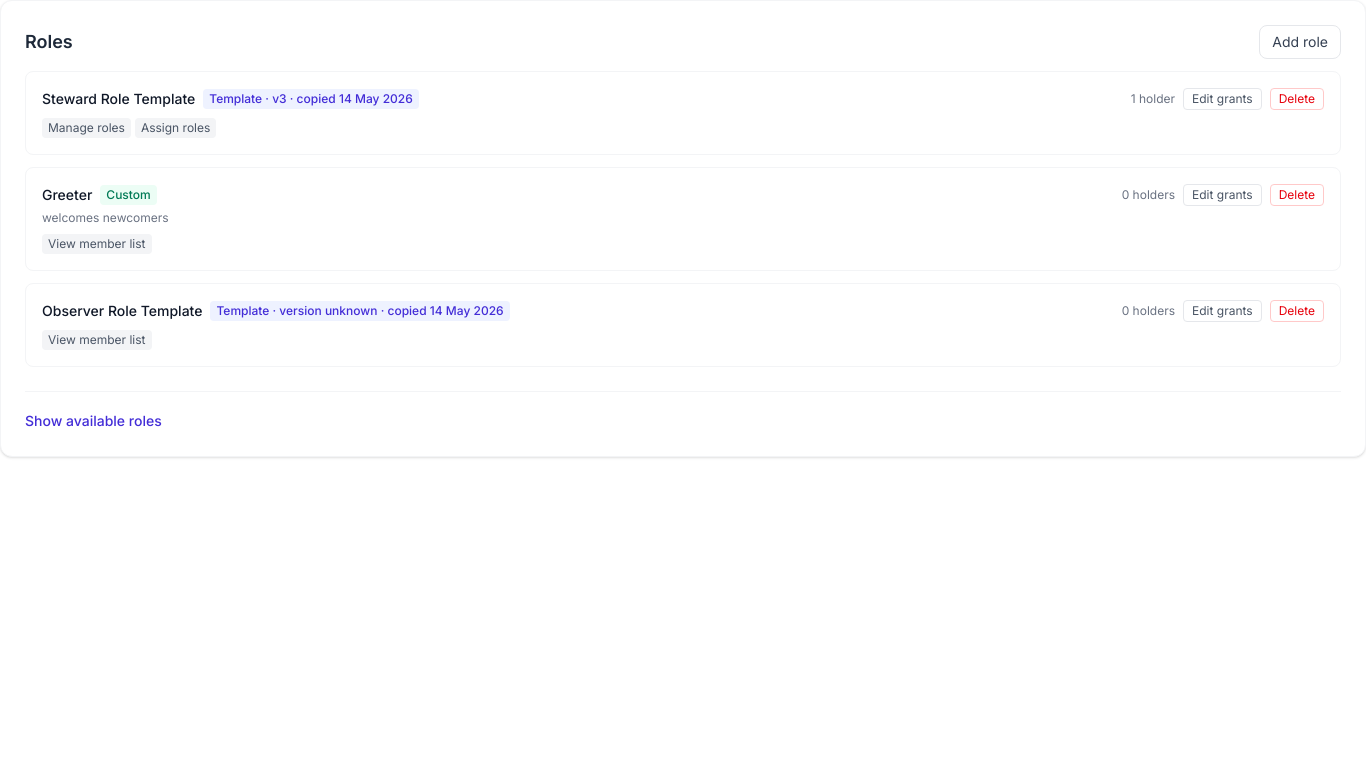
FEAT-H014 — RolesPanel (STORY-1/2) › W-9: a held role cannot be confirmed for removal — the obstacle disables the act
This screenshot has width=1366, height=768.
Click the button with test id "delete-role-button" in the row of "Template · v3 · copied 14 May 2026" at (1297,99), box x1=1270 y1=88 x2=1324 y2=110
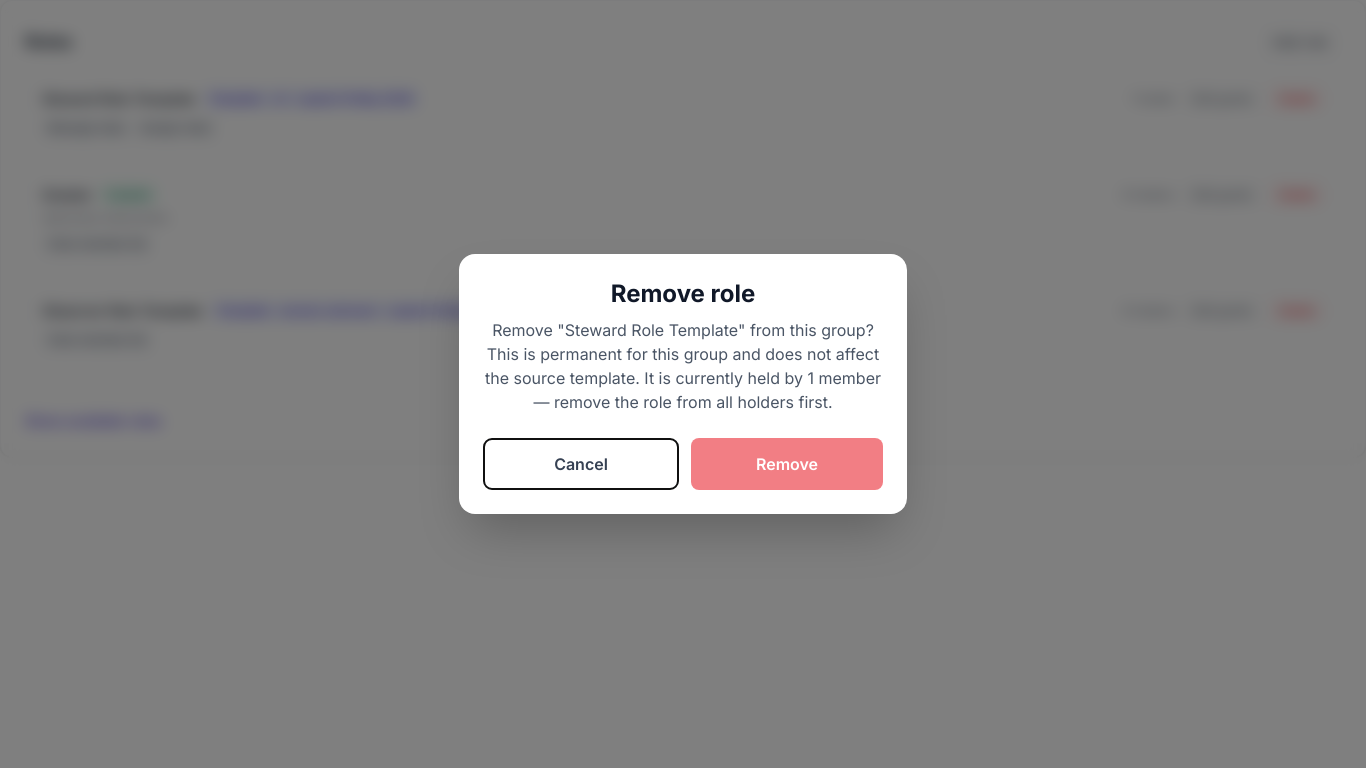
Expected: the dialog with test id "confirm-modal" shows "currently held by 1 member", x1=485 y1=320 x2=881 y2=412
Expected: the button with test id "confirm-modal-confirm" is disabled, x1=691 y1=438 x2=883 y2=490
Expected: the button with test id "confirm-modal-cancel" is enabled, x1=483 y1=438 x2=679 y2=490
